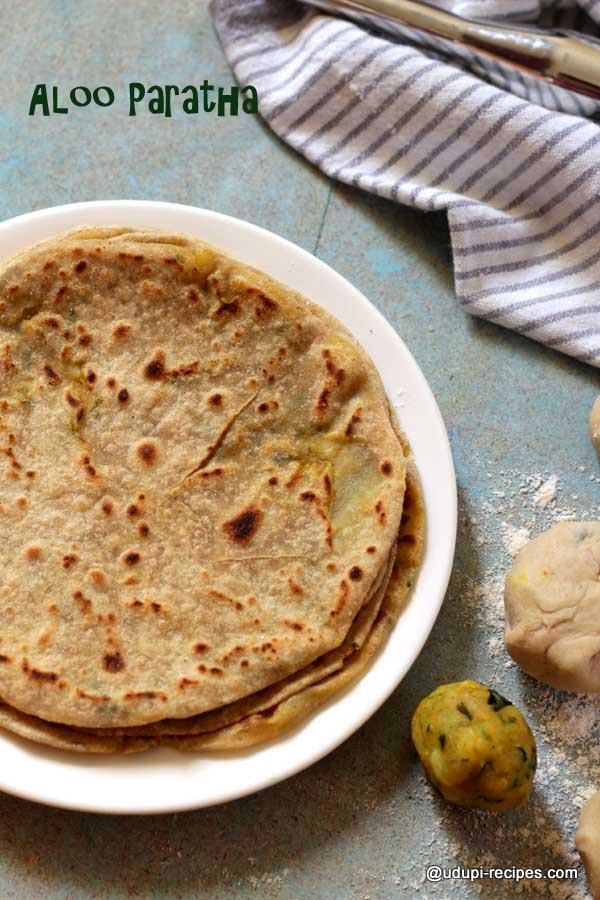aloo_paratha: (1, 222, 421, 757)
